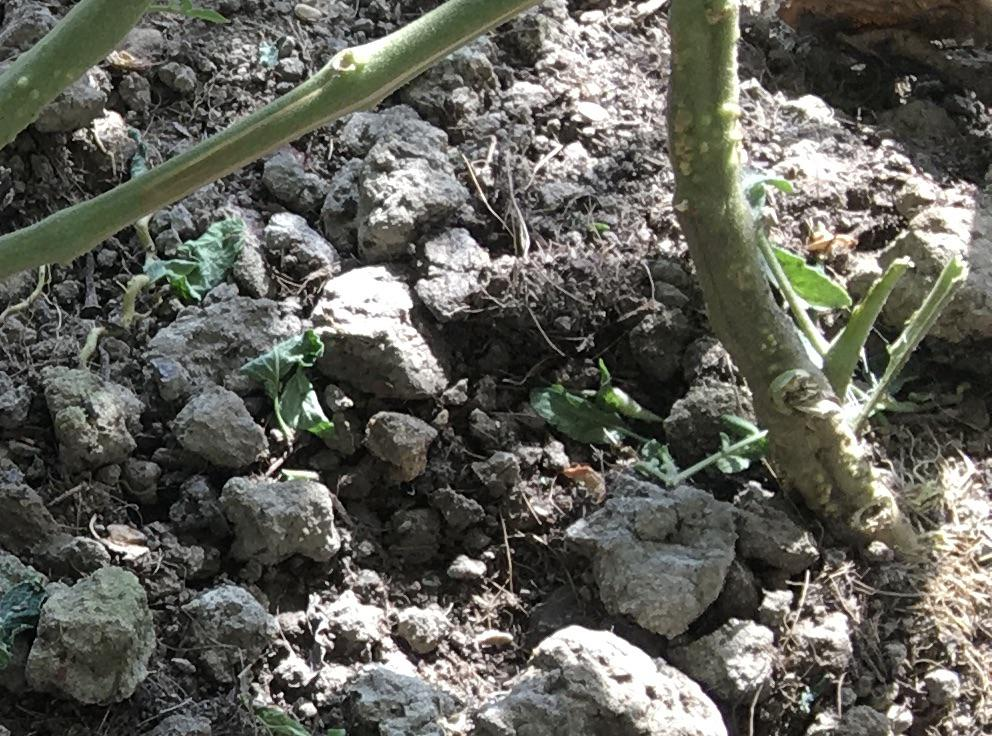block: (480, 627, 722, 736), (587, 469, 732, 634), (320, 105, 478, 255), (303, 259, 452, 406), (23, 565, 154, 704), (147, 298, 297, 400), (214, 477, 345, 574), (39, 365, 135, 468), (170, 389, 271, 469)
